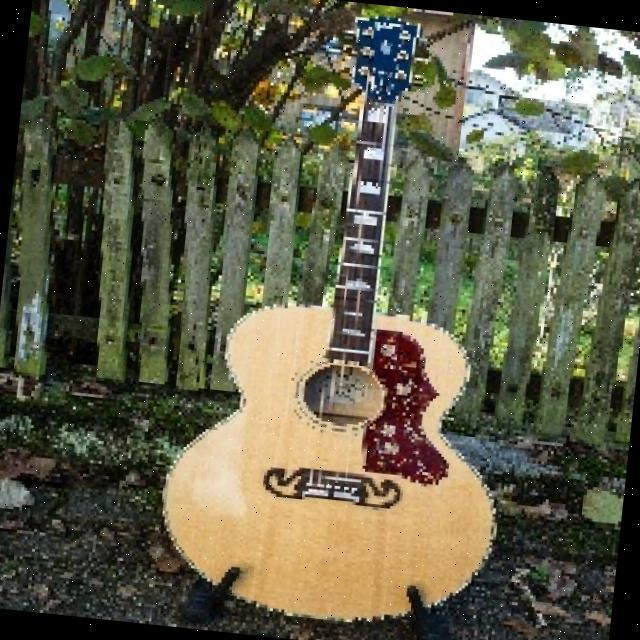acousticguitar: (164, 19, 493, 619)
